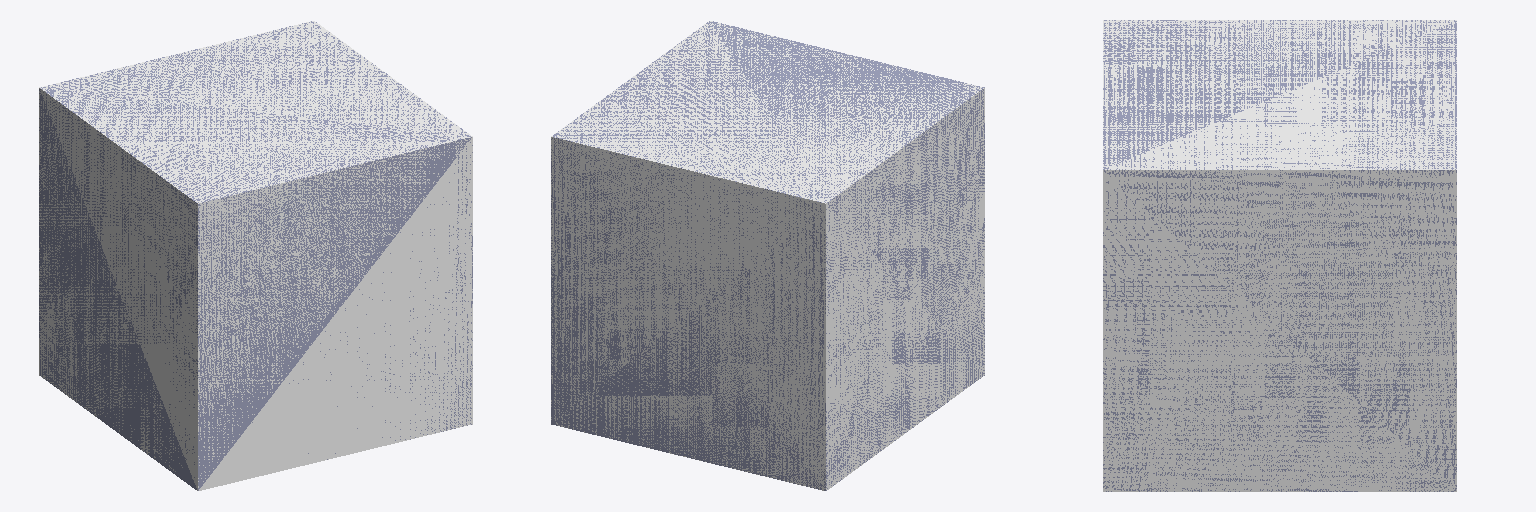
The robot description file, URDF, robot "right-pull-door":
<?xml version="1.0" ?>
<robot name="right-pull-door">
	<link name="base"/>
	<link name="link_0">
		<visual name="out-frame">
			<origin xyz="0 0 0"/>
			<geometry>
				<mesh filename="texture_dae/frame.dae" scale="0.2 0.2 0.2"/>
			</geometry>
		</visual>
		<collision>
			<origin xyz="0 0 0"/>
			<geometry>
				<mesh filename="texture_dae/frame.dae" scale="0.2 0.2 0.2"/>
			</geometry>
		</collision>
	</link>
	<joint name="joint_0" type="fixed">
		<origin rpy="1.570796326794897 0 -1.570796326794897" xyz="0 0 0"/>
		<child link="link_0"/>
		<parent link="base"/>
	</joint>
	<link name="link_1">
		<visual name="surf-board">
			<origin xyz="0.23645086622142092 0 0"/>
			<geometry>
				<mesh filename="texture_dae/board.dae" scale="0.2 0.2 0.2"/>
			</geometry>
		</visual>
		<collision>
			<origin xyz="0.23645086622142092 0 0"/>
			<geometry>
				<mesh filename="texture_dae/board.dae" scale="0.2 0.2 0.2"/>
			</geometry>
		</collision>
	</link>
	<joint name="joint_1" type="revolute">
		<origin xyz="-0.23645086622142092 0 0"/>
		<axis xyz="0 -1 0"/>
		<child link="link_1"/>
		<parent link="link_0"/>
		<limit lower="0" upper="1.5079644737231006"/>
	</joint>
	<link name="link_2">
		<visual name="handle">
			<origin xyz="0 0 0"/>
			<geometry>
				<mesh filename="texture_dae/9961204.dae" scale="0.5 0.5 0.5"/>
			</geometry>
		</visual>
		<collision>
			<origin xyz="0 0 0"/>
			<geometry>
				<mesh filename="texture_dae/9961204.dae" scale="0.5 0.5 0.5"/>
			</geometry>
		</collision>
	</link>
	<joint name="joint_2" type="revolute">
		<origin xyz="0.23645086622142092 0 0.01084292607811039"/>
		<child link="link_2"/>
		<parent link="link_1"/>
		<axis xyz="0 0 1"/>
		<limit lower="0" upper="1.5079644737231006"/>
	</joint>
</robot>

--- Facts derived from the render (not from the file) ---
Views: 3 orthographic renders of the robot side by side, from view 1: azimuth 30°, elevation 25°; view 2: azimuth 150°, elevation 25°; view 3: azimuth 270°, elevation 25°.
Robot: right-pull-door — 4 links, 3 joints (2 revolute, 1 fixed); root link base; default pose: all joints at 0.
Links seen in each view (by area): view 1: link_0; view 2: link_0; view 3: link_0.
Link boxes in pixels (bbox=[...]): link_0: bbox=[39, 21, 472, 490]; link_0: bbox=[551, 21, 984, 490]; link_0: bbox=[1103, 20, 1456, 491].
Size in the robot's own frame: 0.6096 by 0.6096 by 0.6232 metres.
Meshes: 3 distinct files referenced, 3 mesh visuals loaded (3 Collada DAE).
